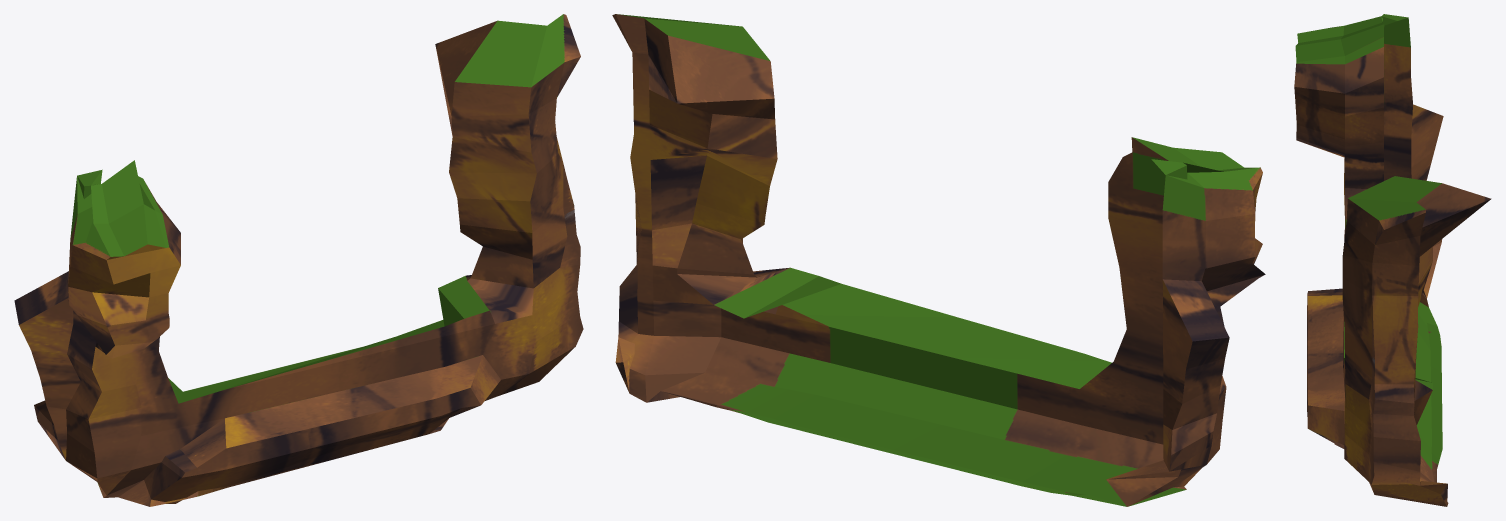
The model's file is sali62.obj.
3 views of the same model, side by side, from view 1: azimuth 30°, elevation 25°; view 2: azimuth 150°, elevation 25°; view 3: azimuth 270°, elevation 25° (orthographic). The views are drawn at different scales.
Visible parts, largest first — view 1: Plane.031_Plane.034; view 2: Plane.031_Plane.034; view 3: Plane.031_Plane.034.
Part boxes in pixels (x1=…): Plane.031_Plane.034: x1=14, y1=14, x2=583, y2=506; Plane.031_Plane.034: x1=612, y1=14, x2=1265, y2=506; Plane.031_Plane.034: x1=1294, y1=14, x2=1491, y2=506.
Bounding box in the file's own units: 384 × 231 × 128.
Materials: 1 (1 with a texture image).
